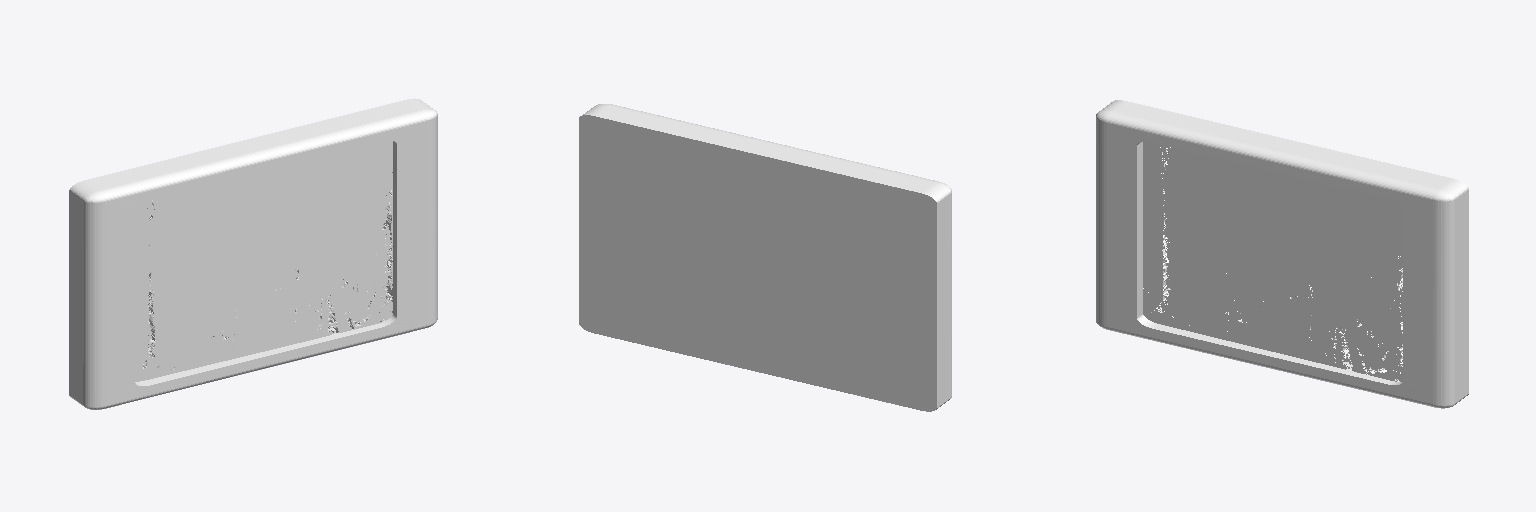
The model's file is Modern_art.obj.
3 renders of one model, left to right at view 1: azimuth 30°, elevation 25°; view 2: azimuth 150°, elevation 25°; view 3: azimuth 330°, elevation 25°, orthographic.
Parts seen in each view (by area): view 1: Object.1; view 2: Object.1; view 3: Object.1.
Part boxes in pixels (left/top/right/bottom): Object.1: left=69, top=98, right=437, bottom=409; Object.1: left=579, top=104, right=951, bottom=411; Object.1: left=1096, top=100, right=1468, bottom=408.
Size of the model in its own units: 196 by 114 by 21.89.